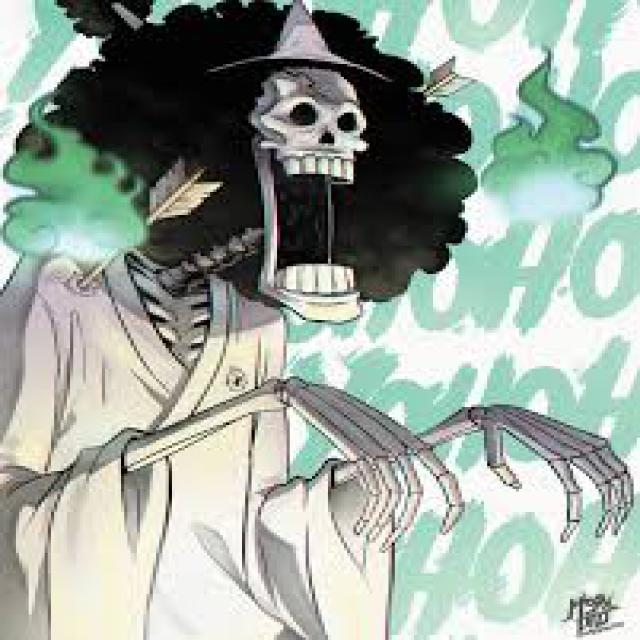Brook: (0, 0, 637, 640)
